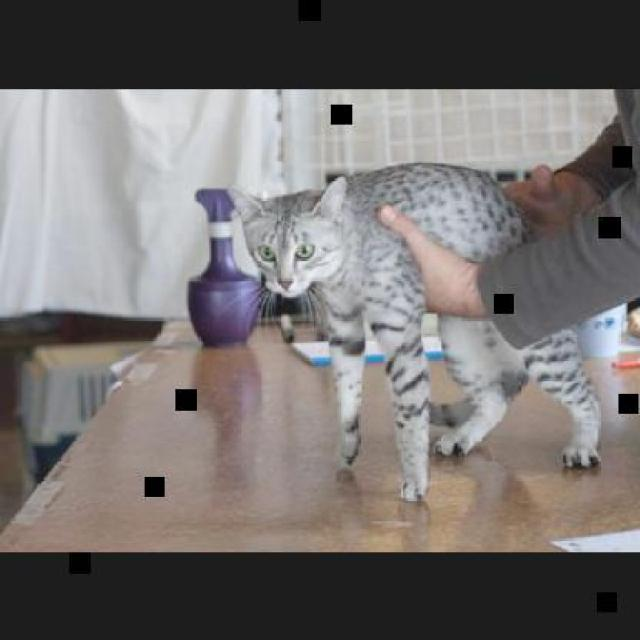unauthorized: (226, 160, 602, 502)
